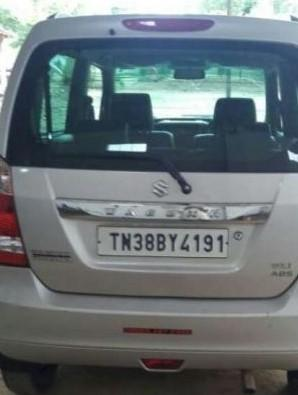License-Plate: (98, 215, 232, 261)
